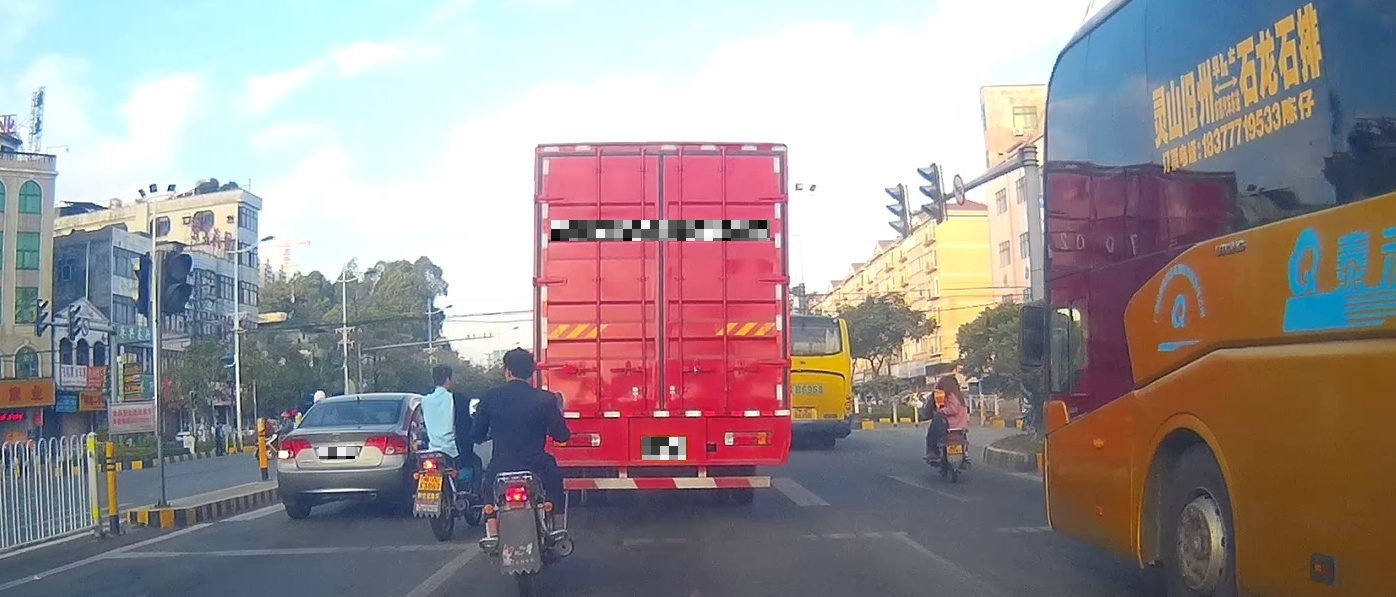L_light: (276, 439, 312, 459), (724, 431, 772, 445), (552, 433, 600, 446)
R_light: (364, 435, 408, 455)
T_light: (641, 152, 680, 164), (346, 399, 370, 407)
day-left: (276, 393, 408, 519)
day-no: (532, 141, 791, 505)
plate_1: (319, 447, 358, 459)
plate_2: (551, 220, 770, 241)
plate_3: (642, 437, 686, 460)
